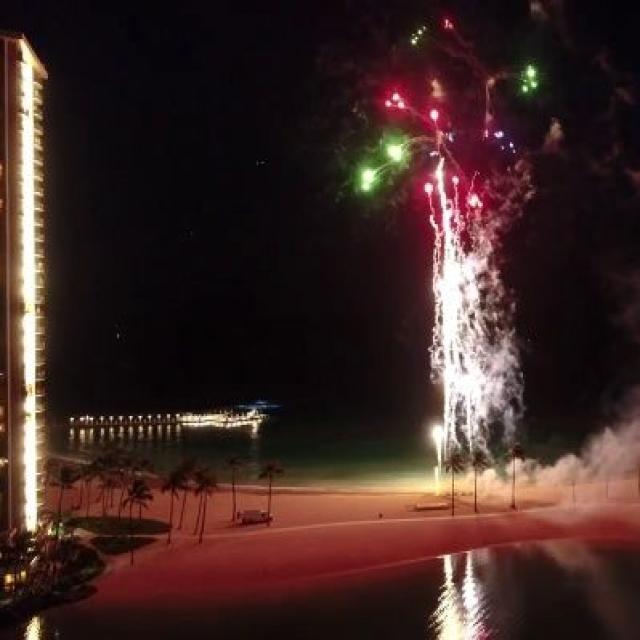Smoke: (422, 211, 550, 446)
